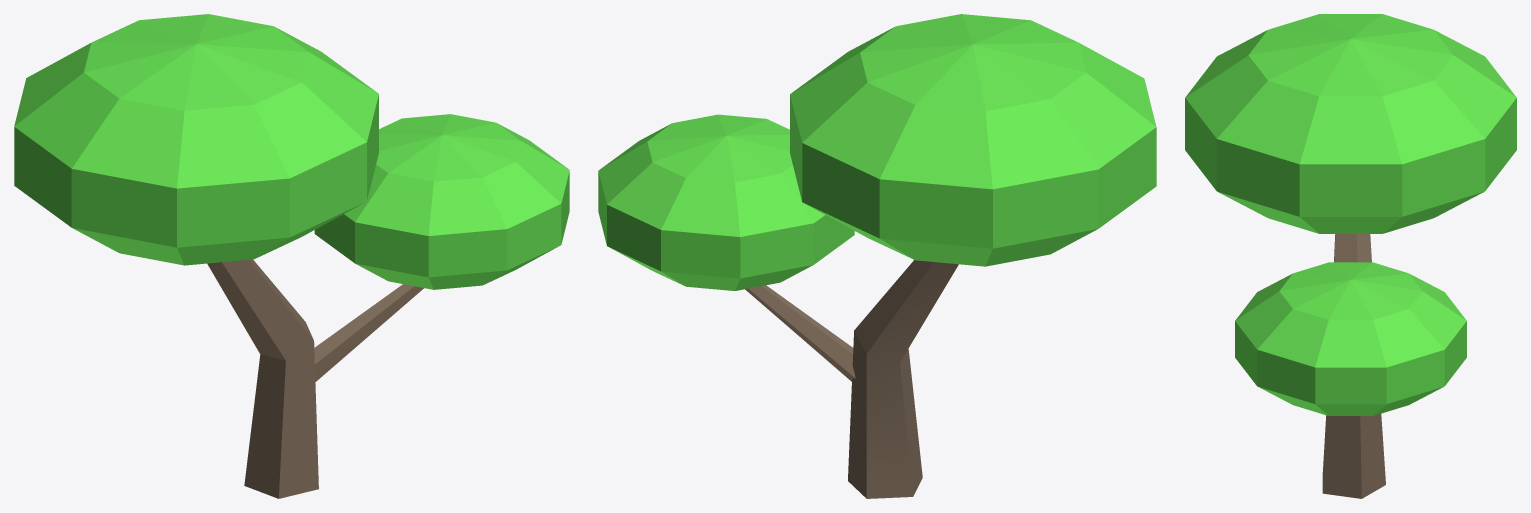
Rendered from tree2.fbx.
3 views of the same model, side by side, from view 1: azimuth 30°, elevation 25°; view 2: azimuth 150°, elevation 25°; view 3: azimuth 270°, elevation 25° (orthographic). The views are drawn at different scales.
Visible parts, largest first — view 1: tree2; view 2: tree2; view 3: tree2.
Part boxes in pixels (x1=…): tree2: x1=14, y1=14, x2=569, y2=498; tree2: x1=598, y1=14, x2=1156, y2=498; tree2: x1=1185, y1=14, x2=1516, y2=498.
Size of the model in its own units: 298 by 258 by 190.
